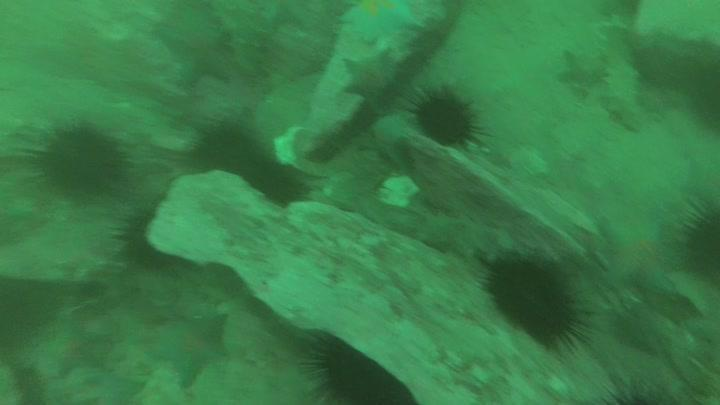urchin: (480, 247, 595, 351), (29, 115, 132, 199), (298, 332, 416, 405), (401, 77, 488, 156), (187, 116, 269, 185), (674, 200, 720, 280)
